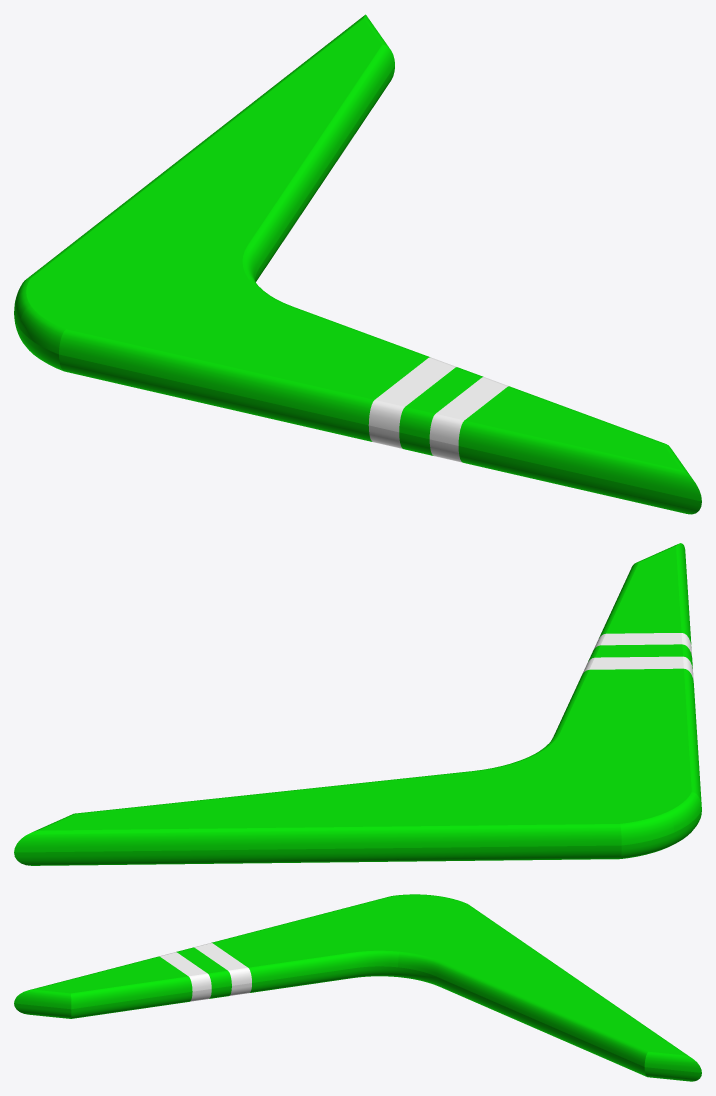
File: boomerang.g.glb
3 views of the same model, one above another, from view 1: azimuth 30°, elevation 25°; view 2: azimuth 150°, elevation 25°; view 3: azimuth 270°, elevation 25° (orthographic). The views are drawn at different scales.
Visible parts, largest first — view 1: Geom3D.002, Geom3D.003; view 2: Geom3D.002, Geom3D.003; view 3: Geom3D.002, Geom3D.003.
Boxes of the visible parts, x1,y1,x2,y2 form: Geom3D.002: [14, 14, 701, 514]; Geom3D.003: [368, 357, 508, 462]; Geom3D.002: [14, 543, 701, 865]; Geom3D.003: [582, 633, 693, 680]; Geom3D.002: [14, 894, 701, 1081]; Geom3D.003: [159, 943, 251, 1001].
Size of the model in its own units: 0.3648 by 0.0254 by 0.6289.
